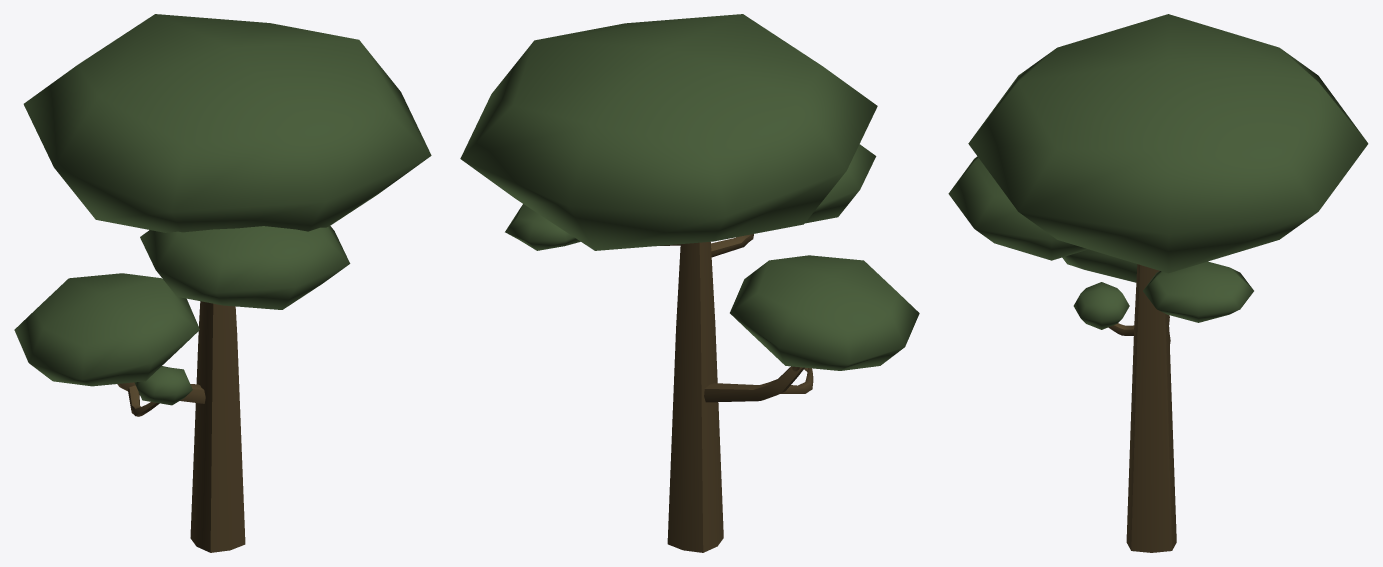
The model's file is arbre.fbx.
The picture shows the model from 3 angles, left to right: view 1: azimuth 30°, elevation 25°; view 2: azimuth 150°, elevation 25°; view 3: azimuth 270°, elevation 25°; orthographic projection. The views are drawn at different scales.
Visible parts, largest first — view 1: arbre1_pCube2; view 2: arbre1_pCube2; view 3: arbre1_pCube2.
Boxes of the visible parts, x1,y1,x2,y2 form: arbre1_pCube2: (14, 14, 431, 552); arbre1_pCube2: (460, 14, 919, 552); arbre1_pCube2: (948, 14, 1368, 552).
Bounding box in the file's own units: 6.16 × 7.32 × 5.68.
